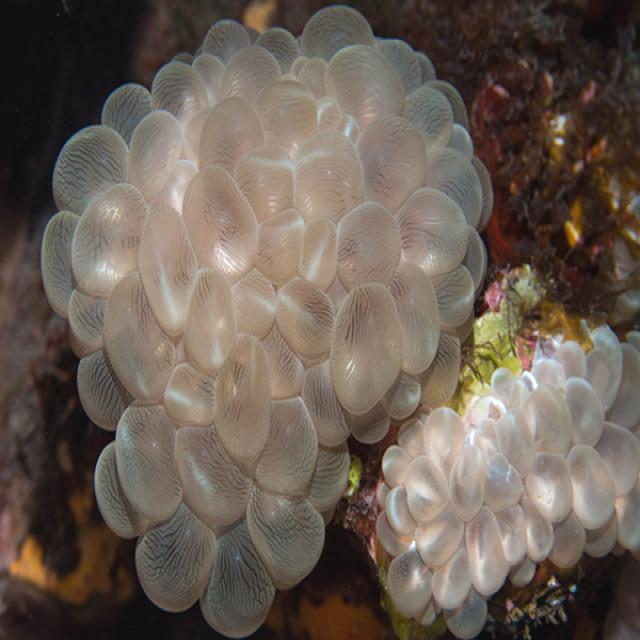Coral: (41, 5, 494, 640), (373, 322, 640, 638)
